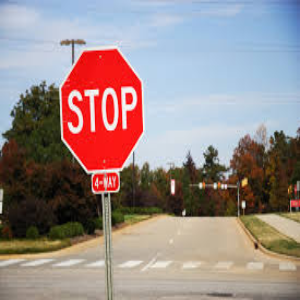STOP_SIGN: (58, 46, 145, 173)
